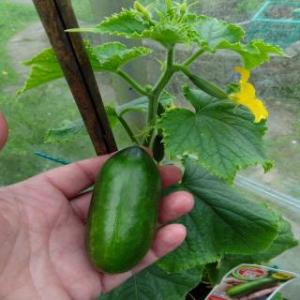cucumber: (82, 146, 158, 278)
